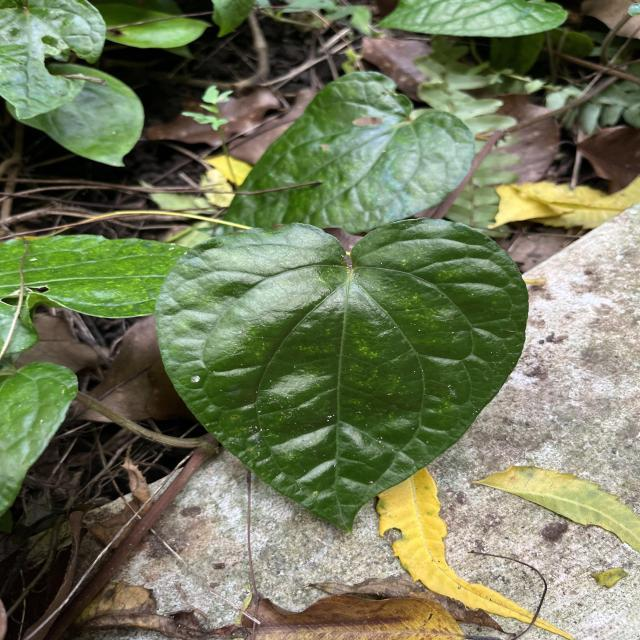Piper betle: (152, 215, 532, 538)
